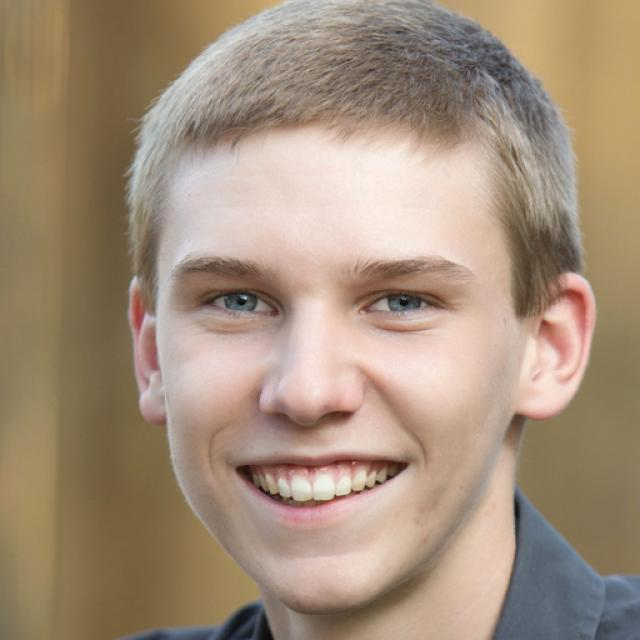happy: (159, 116, 519, 610)
